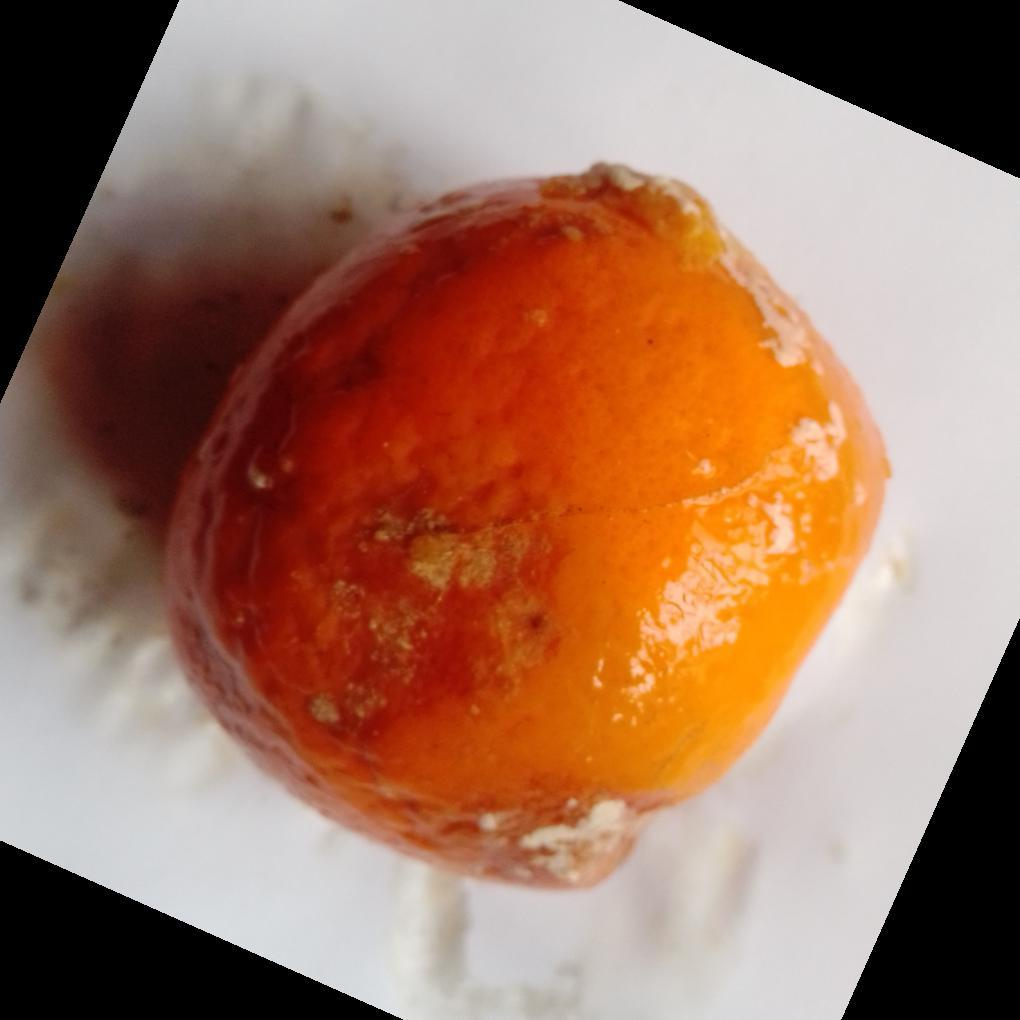FreshOrange: (160, 163, 893, 896)
